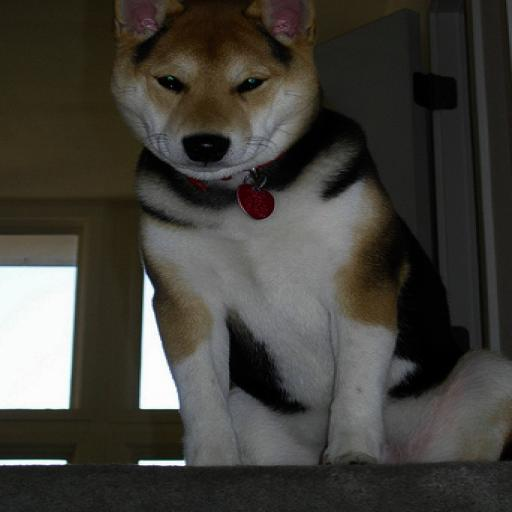dog_face: (98, 0, 332, 173)
